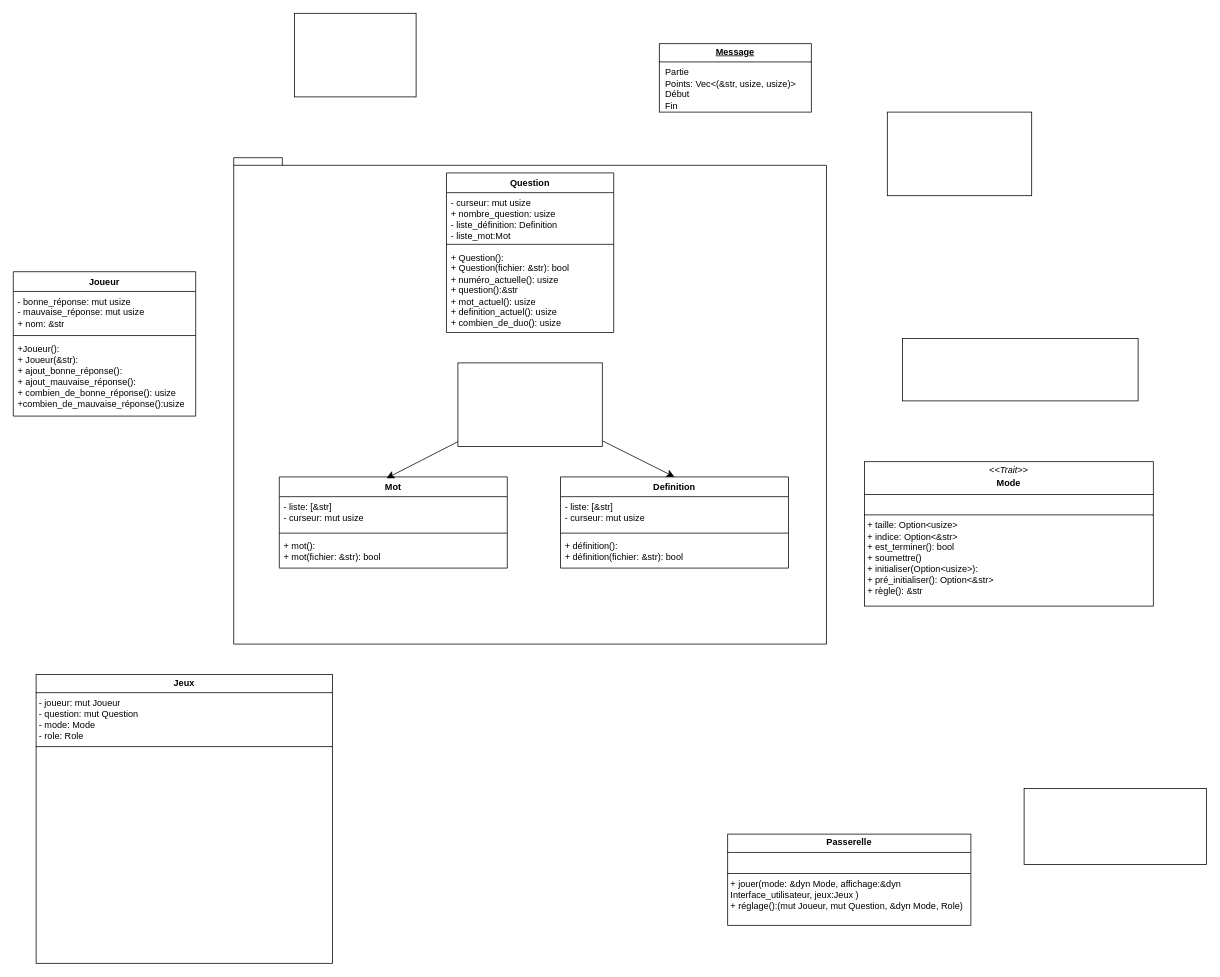
The diagram is 1220 pixels wide and 977 high, and some of its shapes have lost their labels. The centre of each missing label's shape, as x and y in pixels:
"<<Trait>> Client + recevoir(): +s_enregistre(String):" goes at (x=959, y=153).
"<<Trait>> Vocabulaire + suivant(): &str + quel_numéro(): usize" goes at (x=529, y=404).
"Interface_utilisateur + afficher(): + récéptionner(): &str" goes at (x=1114, y=826).
"Role solitaire hote client" goes at (x=1020, y=369).
"Serveur + liste_client: Vec<&dyn Client> + envoie(Message):" goes at (x=355, y=55).
